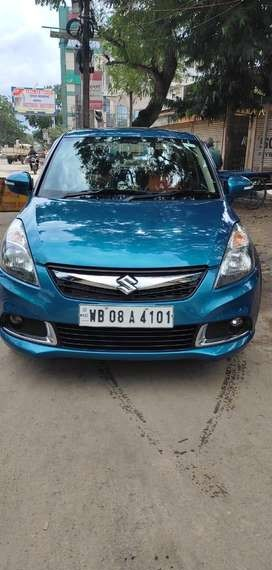WB08A4101: (78, 304, 173, 328)
